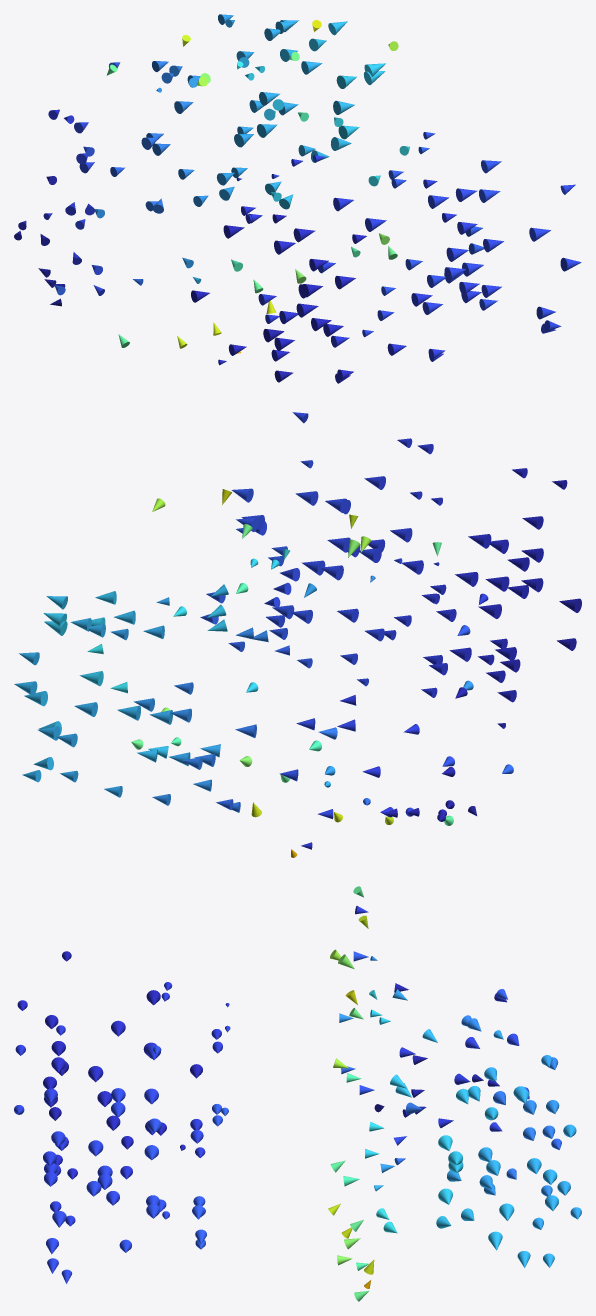
Rendered from LineasCorrienteN2-H2O_mh2-6.88_V-0.7.glb.
3 views of the same model, one above another, from view 1: azimuth 30°, elevation 25°; view 2: azimuth 150°, elevation 25°; view 3: azimuth 270°, elevation 25° (orthographic). The views are drawn at different scales.
Size of the model in its own units: 0.000986 by 0.000808 by 0.00121.
2 materials, 2 textured.
